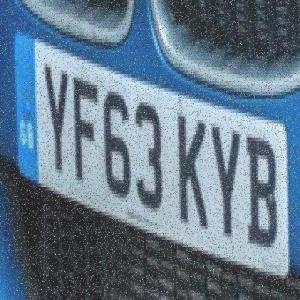Plate: (10, 23, 293, 290)
